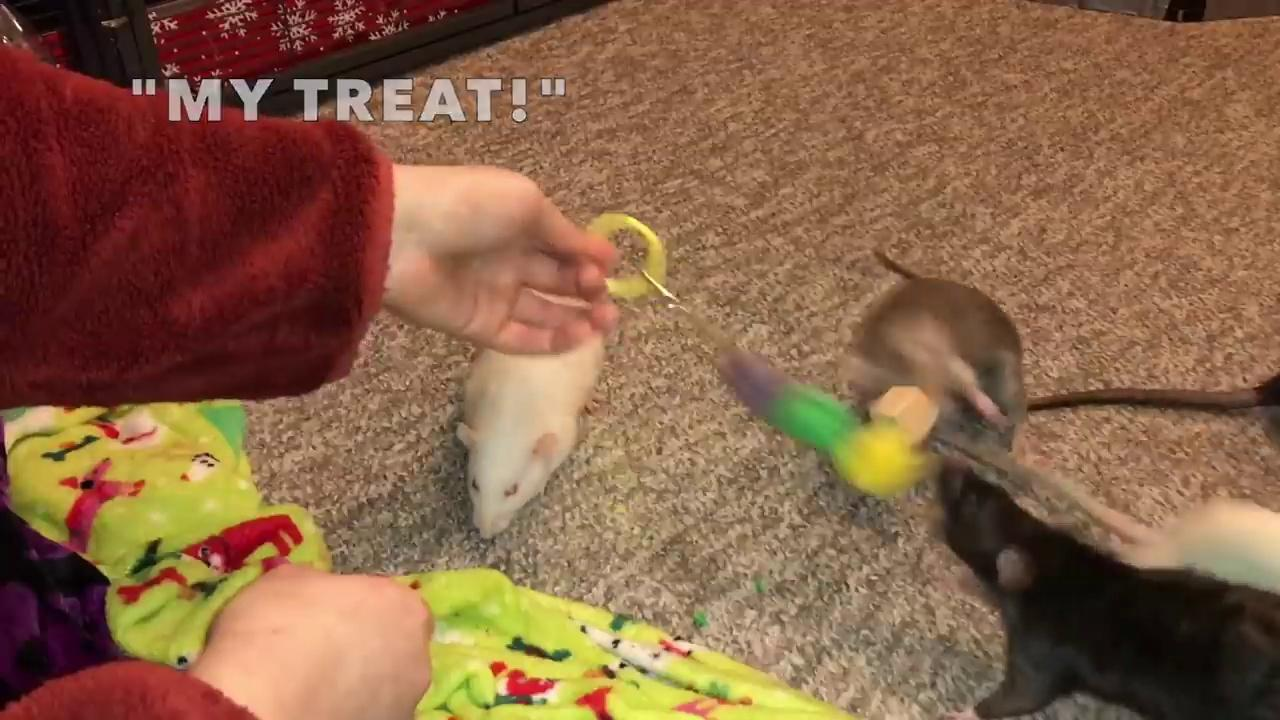rat: (939, 462, 1280, 720), (457, 315, 612, 541)
